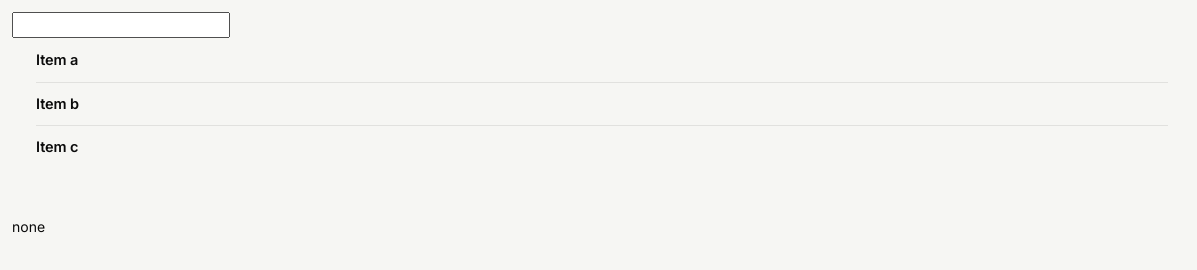
Scenario: useListCursor › row titles are real buttons with aria-current for the open row
This screenshot has width=1197, height=270.
Click the button "Item c" at (57, 147), box [36,137,78,157]
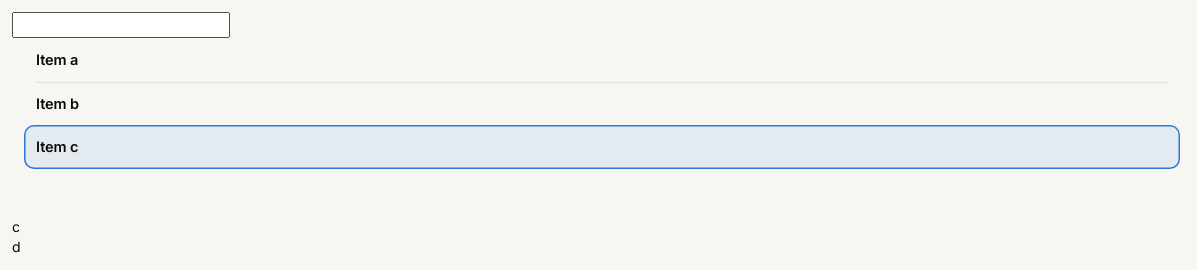
Press Escape
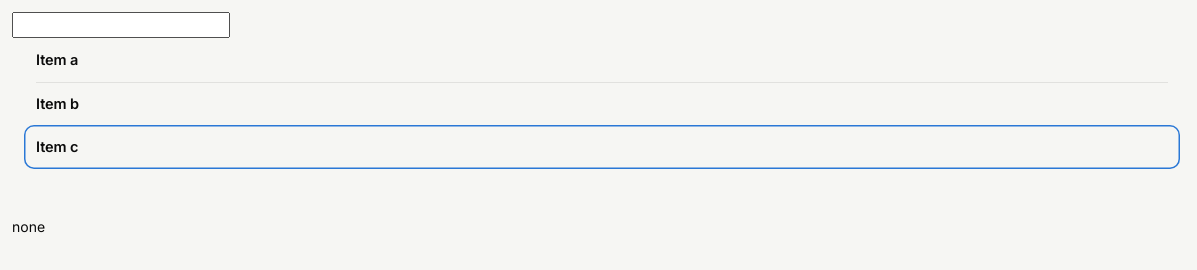
Now the text with test id "open" reads "none", box [12,218,45,235]
